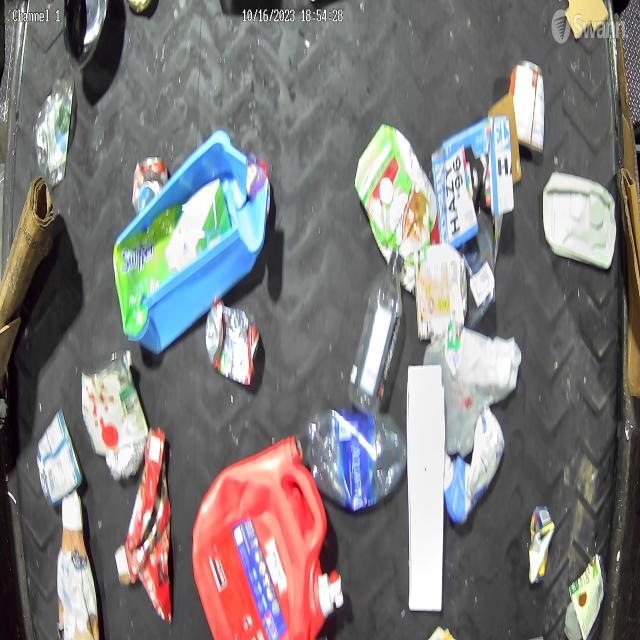can: (82, 350, 148, 476), (413, 242, 467, 340), (205, 298, 261, 386), (36, 408, 82, 508), (62, 0, 109, 73), (568, 553, 607, 640), (510, 60, 545, 155), (132, 157, 170, 212)
milk_jug: (423, 328, 521, 456), (541, 171, 617, 270)
non_white_jug: (113, 132, 270, 354), (191, 432, 342, 640), (355, 124, 438, 293)
plastic_bottle: (348, 248, 405, 414), (308, 412, 406, 508), (35, 74, 75, 190)
